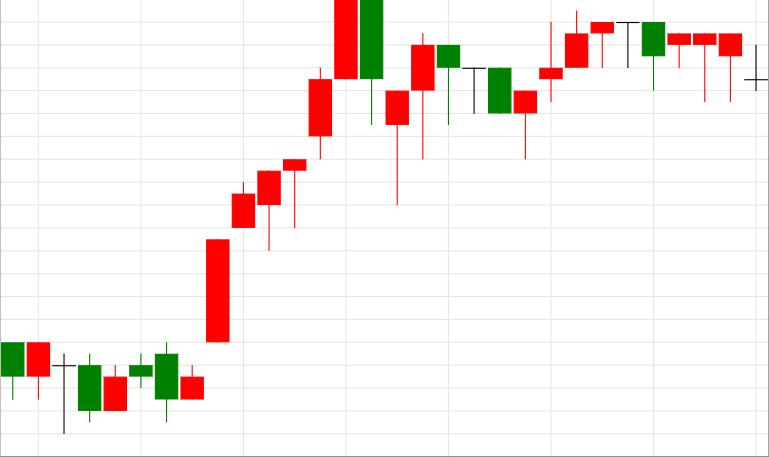bearish_engulfing_fall: (181, 0, 383, 401)
